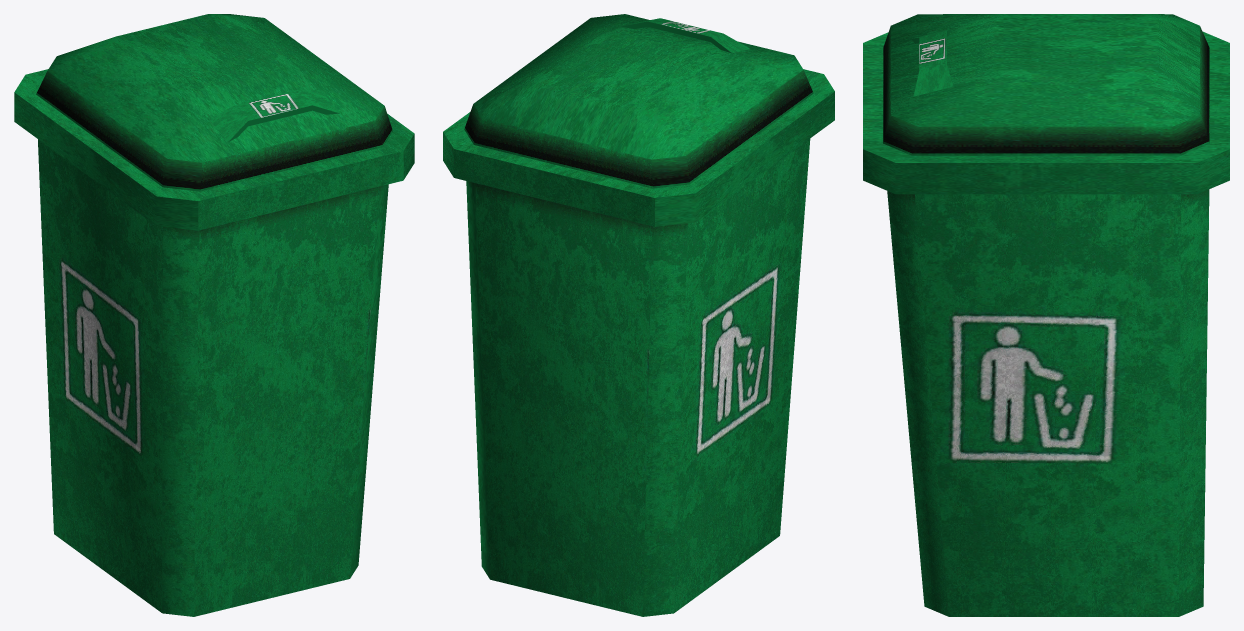
Rendered from UDC_GarbageBinSmall.obj.
The picture shows the model from 3 angles, left to right: view 1: azimuth 30°, elevation 25°; view 2: azimuth 150°, elevation 25°; view 3: azimuth 270°, elevation 25°; orthographic projection. The views are drawn at different scales.
Visible parts, largest first — view 1: UDC_GarbageBinSmall; view 2: UDC_GarbageBinSmall; view 3: UDC_GarbageBinSmall.
Part boxes in pixels (x1,y1,x2,y2): UDC_GarbageBinSmall: (14, 14, 414, 616); UDC_GarbageBinSmall: (443, 14, 834, 616); UDC_GarbageBinSmall: (863, 14, 1229, 616).
Size of the model in its own units: 0.2383 by 0.4345 by 0.2766.
1 material, 1 textured.
